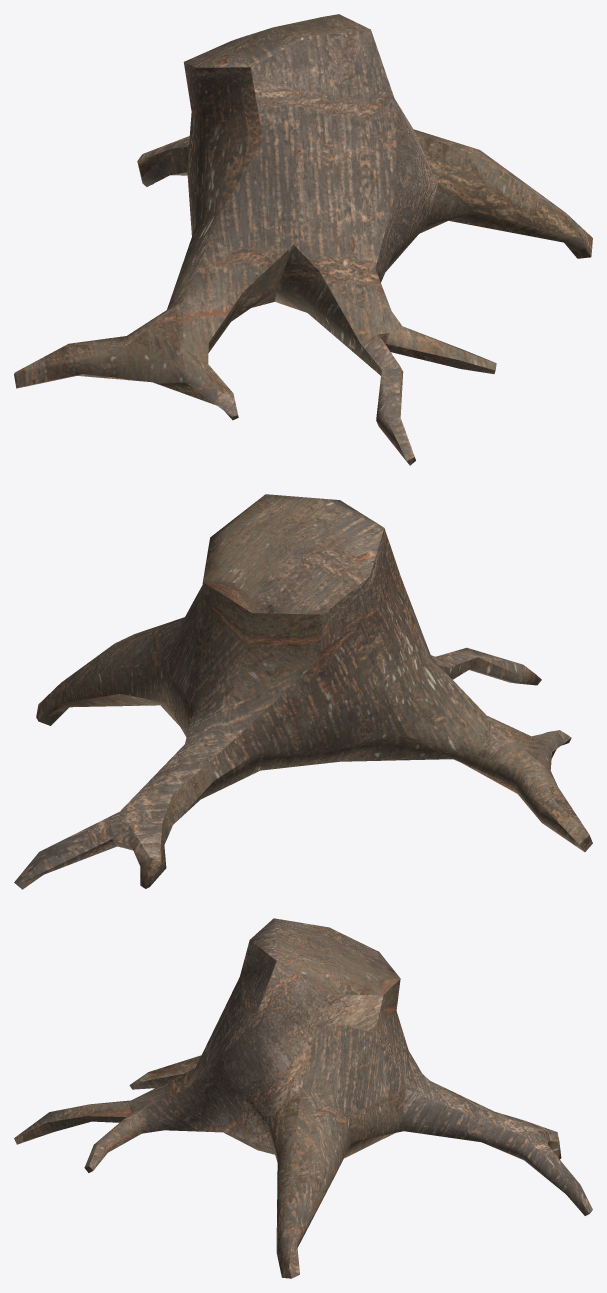
The model's file is Branch 3.fbx.
3 renders of one model, top to bottom at view 1: azimuth 30°, elevation 25°; view 2: azimuth 150°, elevation 25°; view 3: azimuth 270°, elevation 25°, orthographic. The views are drawn at different scales.
Parts seen in each view (by area): view 1: Plane.002; view 2: Plane.002; view 3: Plane.002.
Part boxes in pixels (x1,y1,x2,y2): Plane.002: (14, 14, 592, 465); Plane.002: (14, 494, 592, 889); Plane.002: (14, 918, 592, 1278).
Bounding box in the file's own units: 9.85 × 4.85 × 10.62.
